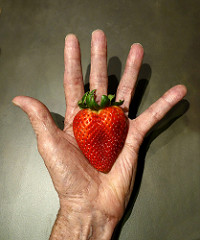palm: (53, 118, 143, 208)
